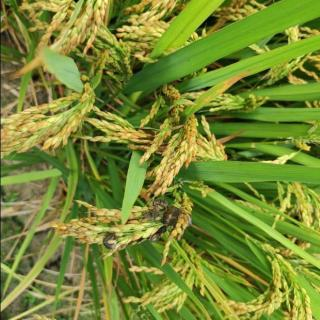Gosong-Palsu: (143, 198, 180, 242), (102, 232, 120, 252)
